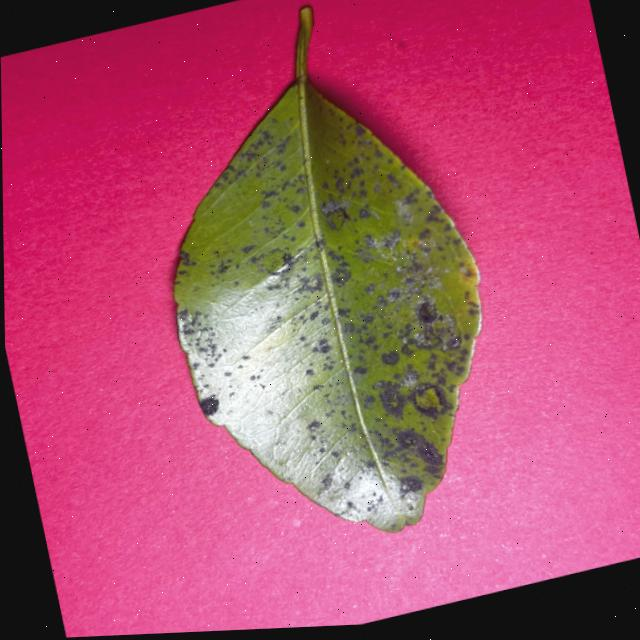sooty_mold: (174, 128, 480, 532)
